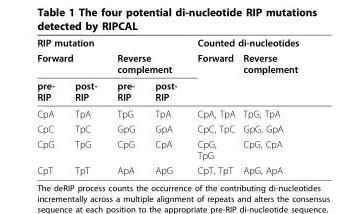table: (36, 36, 298, 175)
table column: (238, 36, 298, 175), (186, 36, 238, 175), (64, 36, 106, 175), (144, 36, 186, 175), (106, 36, 144, 175), (36, 36, 64, 175)
table column header: (36, 36, 298, 105)
table row: (36, 49, 298, 77), (36, 77, 298, 105), (36, 136, 298, 162), (36, 120, 298, 136), (36, 105, 298, 120), (36, 36, 298, 49), (36, 162, 298, 175)
table spanning cell: (238, 49, 298, 105), (186, 49, 238, 105), (106, 49, 186, 77), (36, 49, 106, 77), (36, 36, 186, 49), (186, 36, 298, 49)
